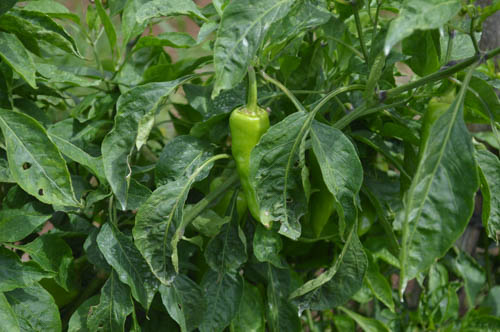ChiliPepper: (226, 109, 271, 221)
